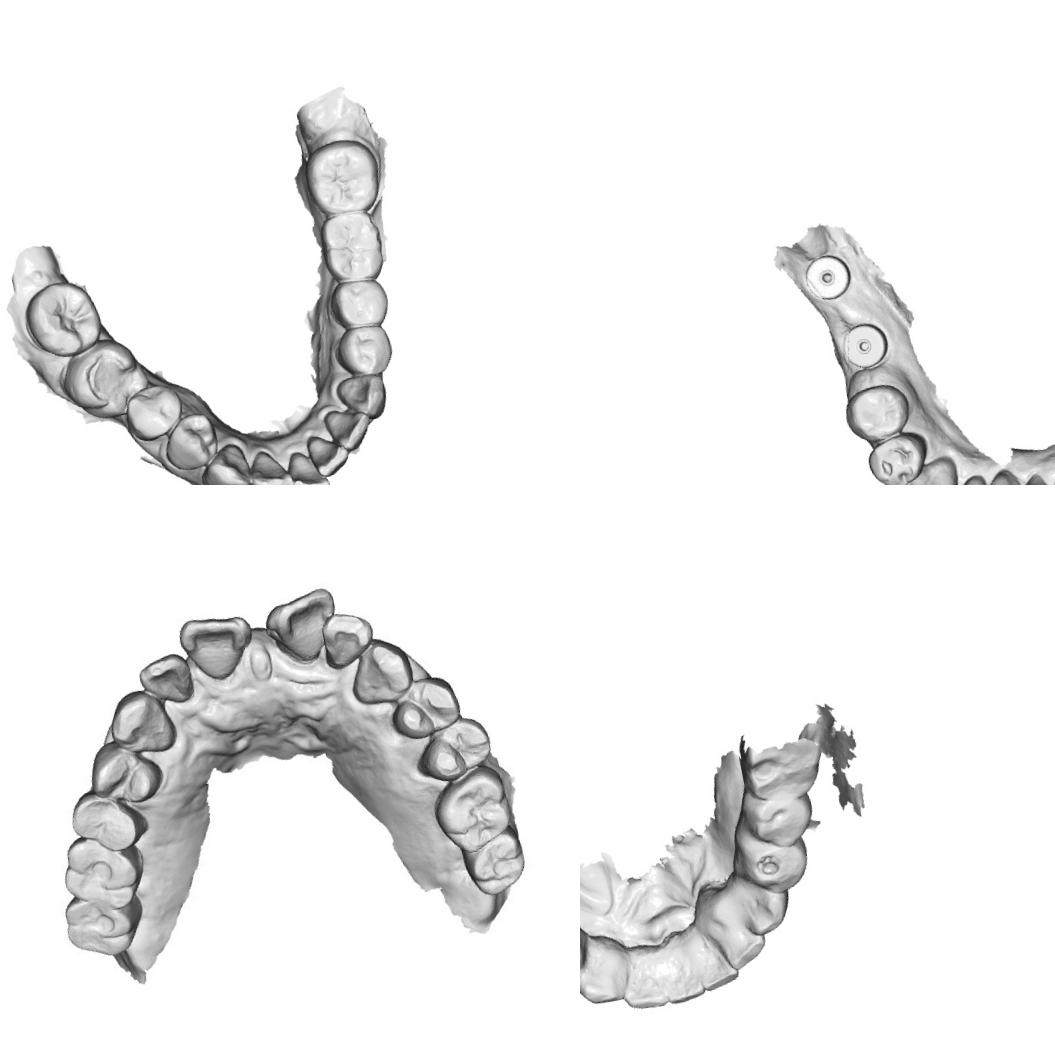canine: (344, 635, 416, 704), (110, 688, 176, 758), (731, 878, 794, 938), (580, 939, 633, 1009), (331, 368, 392, 424), (193, 438, 256, 485), (899, 453, 965, 485)
implant: (801, 250, 861, 308), (836, 315, 890, 372)
incisor: (265, 584, 340, 664), (179, 608, 256, 682), (315, 603, 379, 672), (138, 649, 202, 707), (714, 914, 770, 974), (615, 952, 671, 1012), (321, 402, 375, 455), (656, 949, 706, 1006), (303, 425, 354, 479), (692, 940, 742, 992), (240, 444, 297, 485), (281, 443, 333, 485), (963, 464, 1025, 485)
molar: (54, 332, 148, 427), (16, 274, 106, 364), (296, 132, 386, 219), (432, 768, 517, 853), (56, 828, 144, 909), (313, 204, 389, 288), (57, 888, 141, 962), (464, 830, 528, 896)
premolar: (733, 781, 819, 857), (736, 833, 818, 904), (68, 784, 146, 858), (839, 378, 913, 443), (118, 378, 188, 446), (393, 672, 464, 738), (156, 409, 224, 476), (322, 272, 395, 334), (860, 425, 935, 485), (328, 320, 398, 382), (89, 740, 156, 804), (422, 717, 490, 778)
